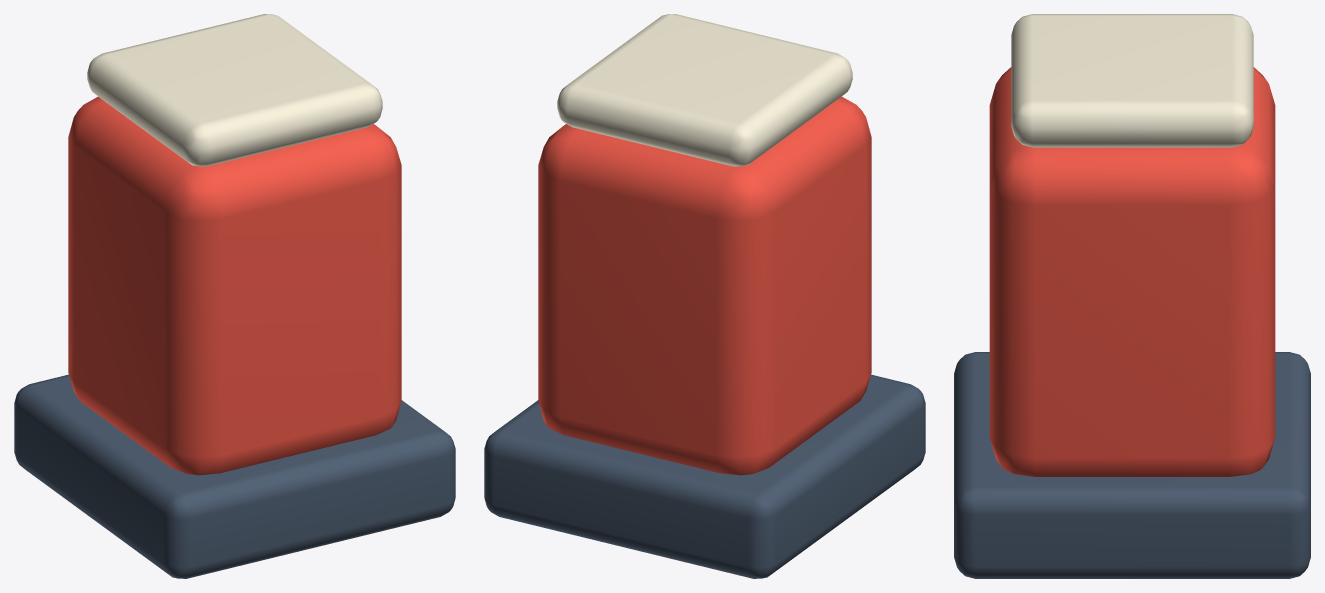
File: AFJ_Wall_Corner.fbx
3 renders of one model, left to right at view 1: azimuth 30°, elevation 25°; view 2: azimuth 150°, elevation 25°; view 3: azimuth 270°, elevation 25°, orthographic. The views are drawn at different scales.
Parts seen in each view (by area): view 1: Corner_Body, Corner_Foot, Corner_Cap; view 2: Corner_Body, Corner_Foot, Corner_Cap; view 3: Corner_Body, Corner_Foot, Corner_Cap.
Part boxes in pixels (left/top/right/bottom): Corner_Body: left=68, top=96, right=401, bottom=475; Corner_Foot: left=14, top=374, right=455, bottom=578; Corner_Cap: left=87, top=14, right=382, bottom=166; Corner_Body: left=538, top=96, right=871, bottom=475; Corner_Foot: left=484, top=374, right=925, bottom=578; Corner_Cap: left=557, top=14, right=852, bottom=166; Corner_Body: left=989, top=67, right=1275, bottom=476; Corner_Foot: left=954, top=352, right=1310, bottom=578; Corner_Cap: left=1011, top=14, right=1253, bottom=147.
Bounding box in the file's own units: 50 × 70 × 50.
